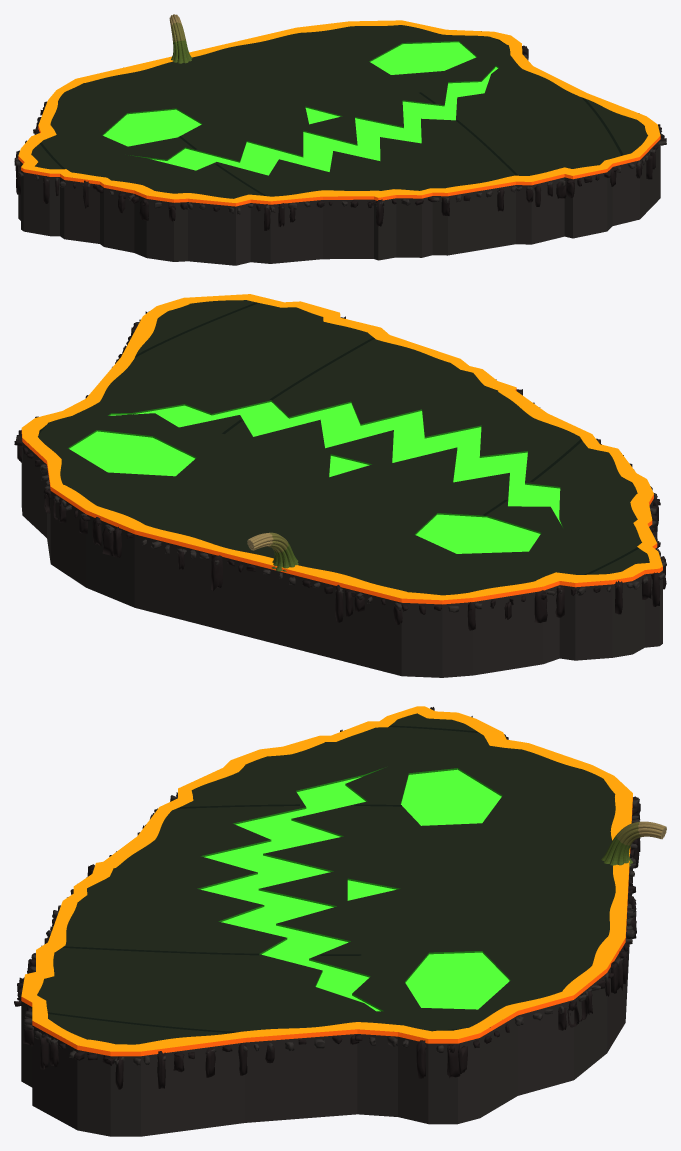
Rendered from hg-island.glb.
The picture shows the model from 3 angles, top to bottom: view 1: azimuth 30°, elevation 25°; view 2: azimuth 150°, elevation 25°; view 3: azimuth 270°, elevation 25°; orthographic projection. The views are drawn at different scales.
Visible parts, largest first — view 1: hg-island; view 2: hg-island; view 3: hg-island.
Part boxes in pixels (bbox=[...]): hg-island: bbox=[14, 14, 666, 265]; hg-island: bbox=[14, 294, 666, 677]; hg-island: bbox=[14, 706, 666, 1136].
Bounding box in the file's own units: 407 × 68.2 × 320.
